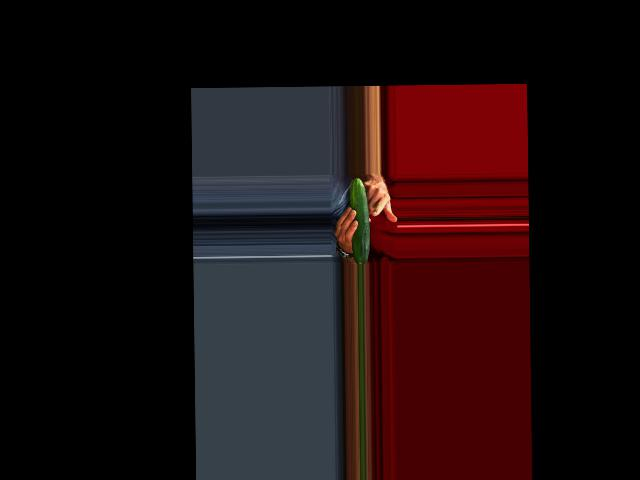cucumber: (348, 178, 370, 264)
